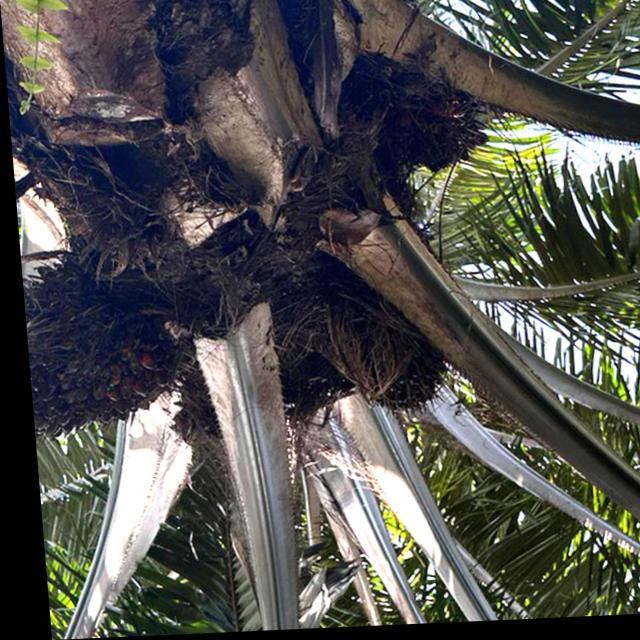unripe: (291, 269, 468, 436)
